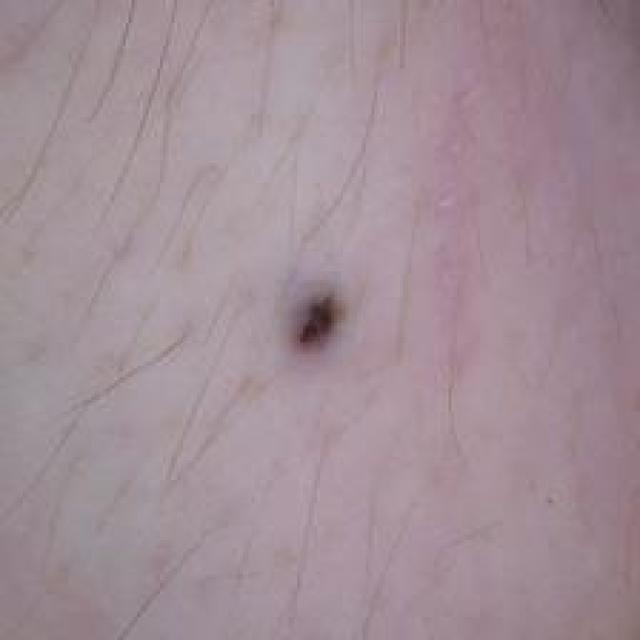Cancer: (258, 273, 388, 386)
